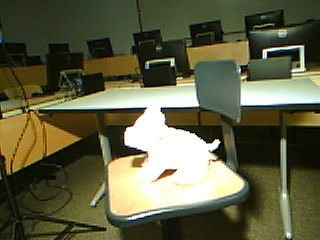piggy: (124, 103, 221, 186)
